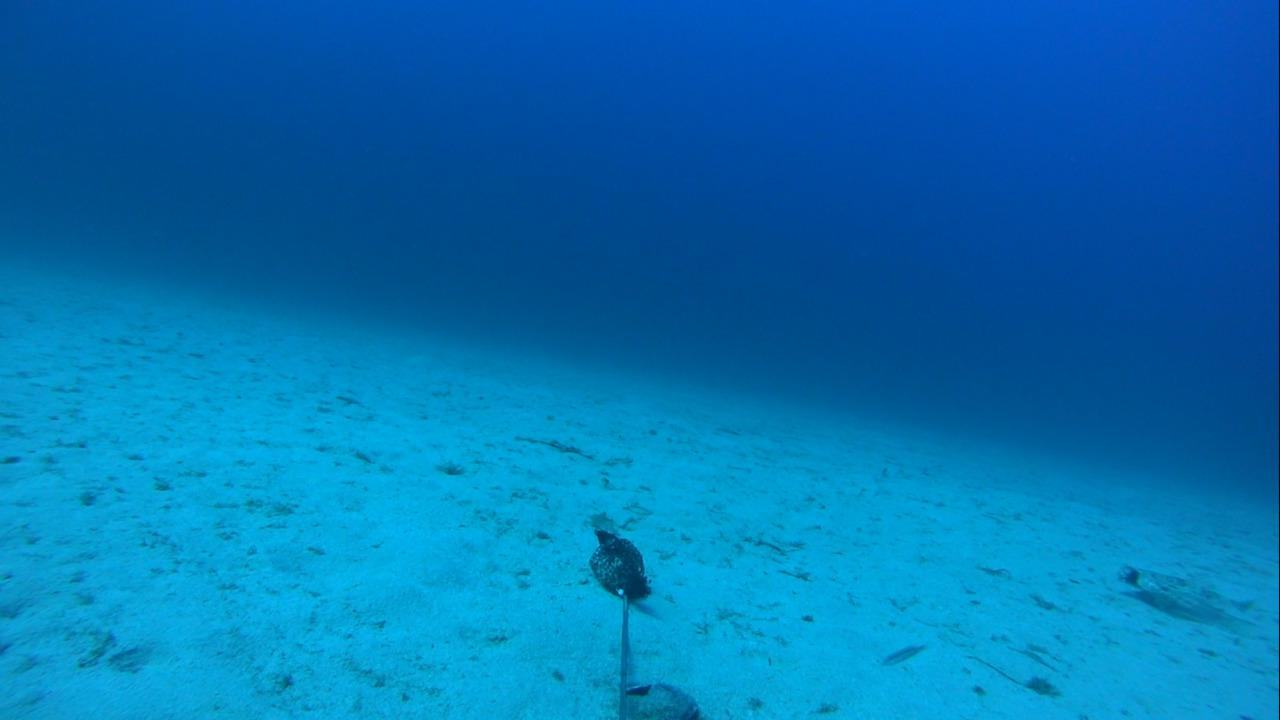dactylopterus: (1094, 555, 1264, 631)
